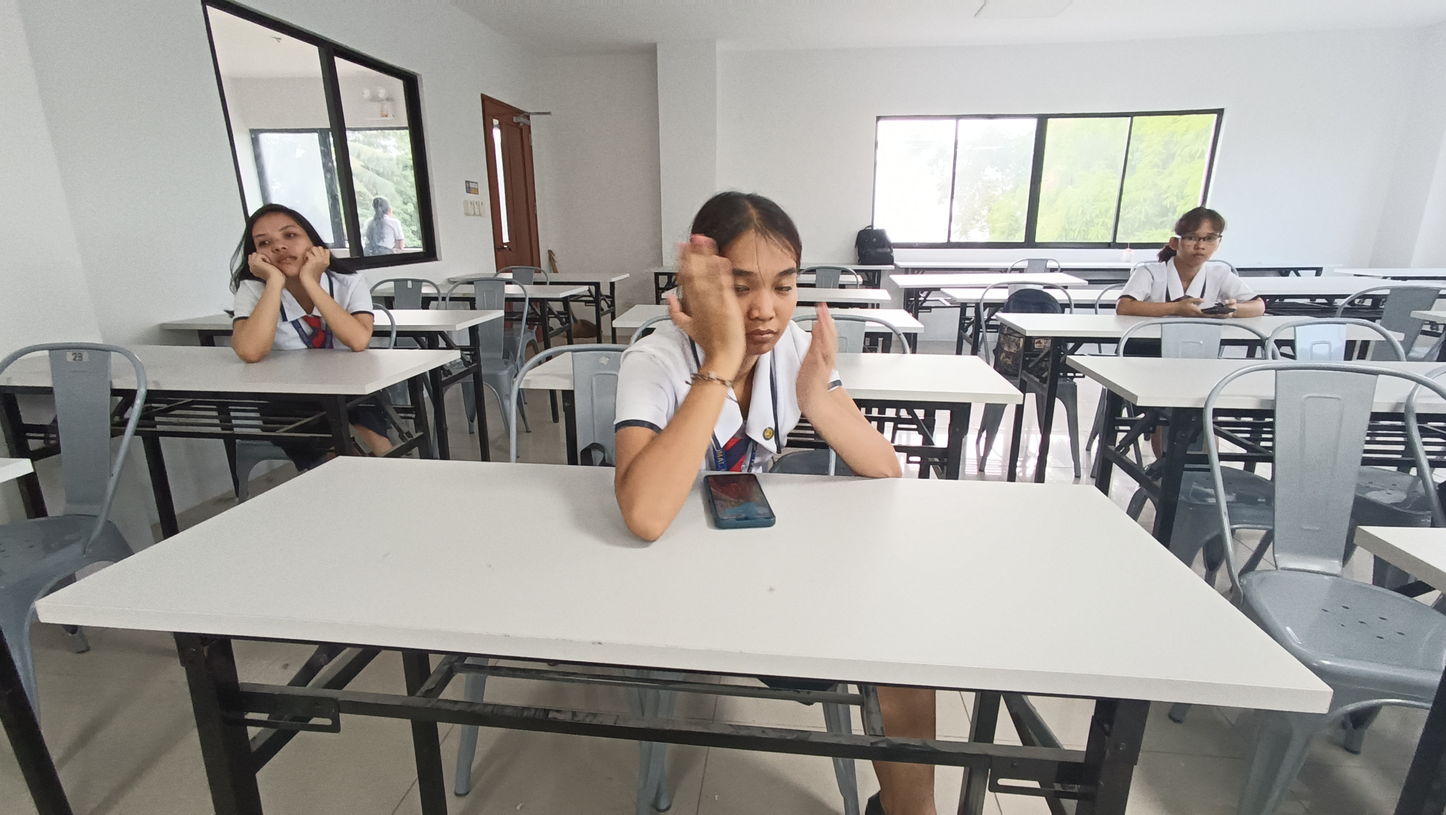with-student: (36, 182, 1332, 765), (1, 202, 462, 438), (986, 206, 1406, 371)
